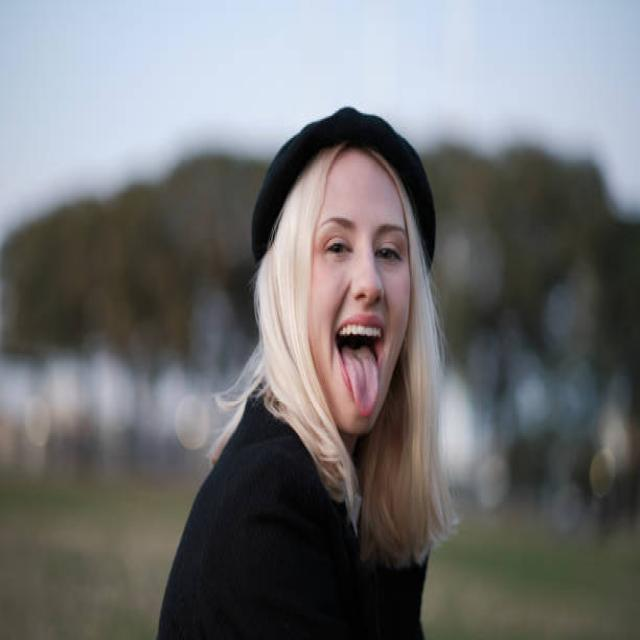tongue: (342, 347, 384, 422)
